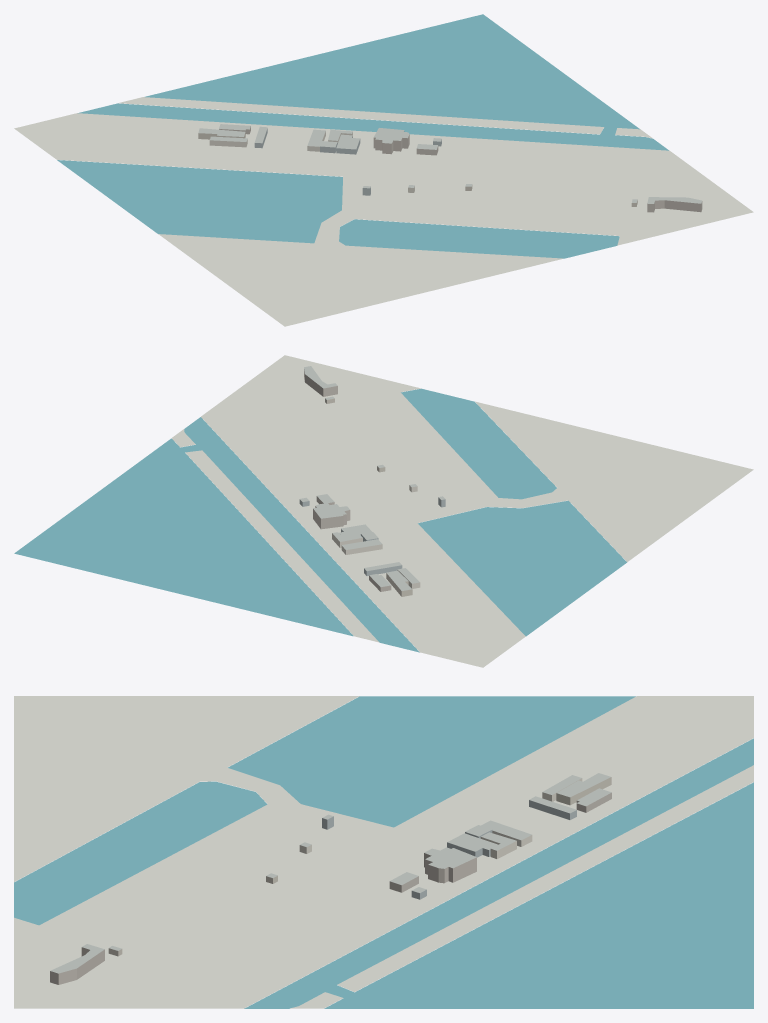
3 renders of one model, top to bottom at view 1: azimuth 30°, elevation 25°; view 2: azimuth 150°, elevation 25°; view 3: azimuth 270°, elevation 25°, orthographic. The views are drawn at different scales.
Visible parts, largest first — view 1: city; view 2: city; view 3: city.
Part boxes in pixels (x1=…): city: x1=14, y1=14, x2=753, y2=326; city: x1=14, y1=355, x2=753, y2=667; city: x1=14, y1=696, x2=753, y2=1008.
Bounding box in the file's own units: 500 × 10.98 × 500.
